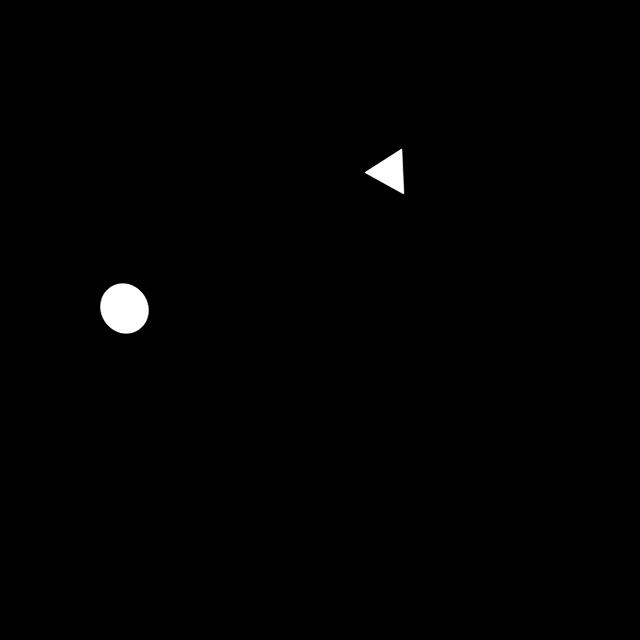Circle: (90, 275, 159, 342)
Triangle: (354, 139, 418, 203)
